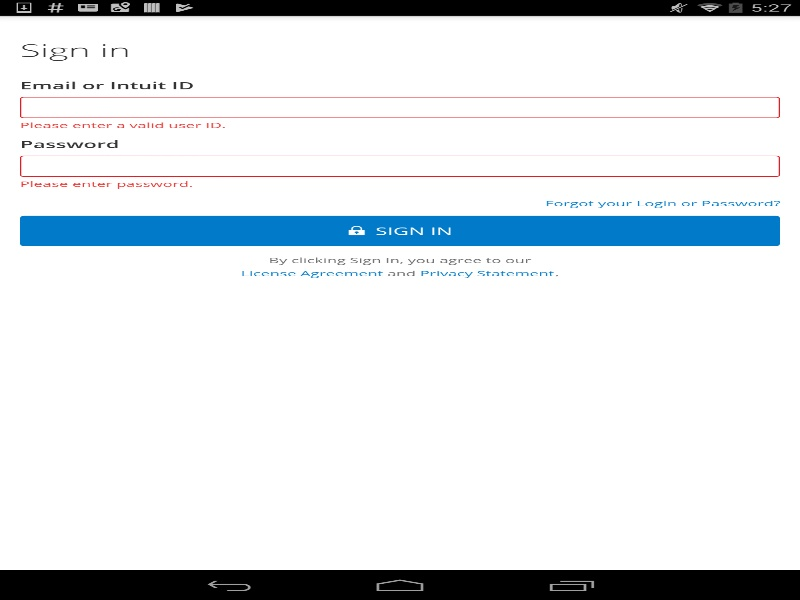Button: (20, 215, 780, 246)
Input: (20, 96, 780, 118), (20, 155, 780, 176)
